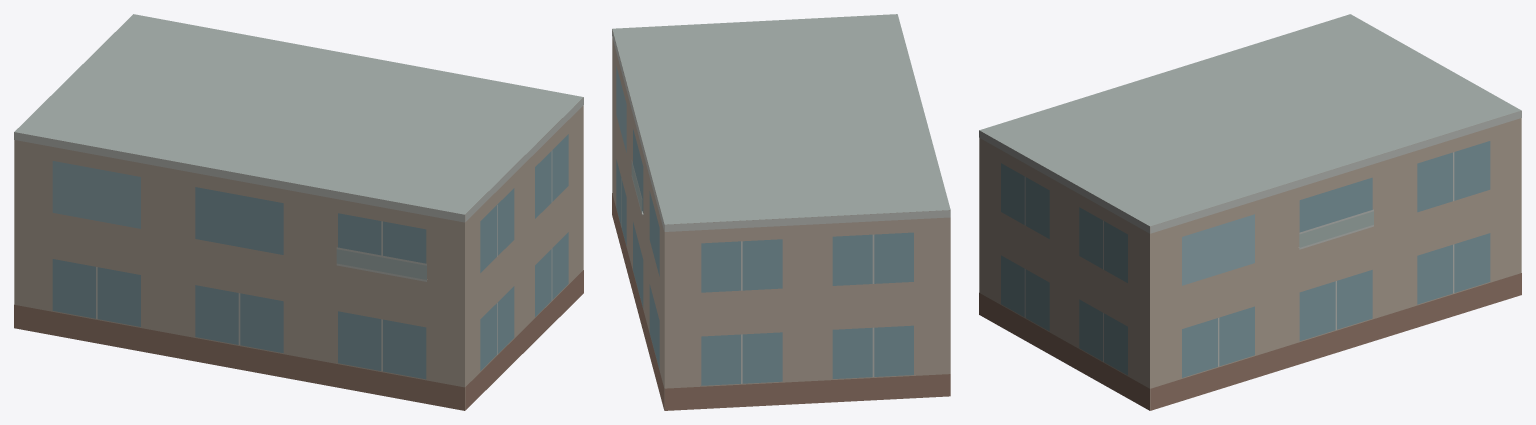
File: survey-upis-32961567.glb
The picture shows the model from 3 angles, left to right: view 1: azimuth 30°, elevation 25°; view 2: azimuth 150°, elevation 25°; view 3: azimuth 270°, elevation 25°; orthographic projection. The views are drawn at different scales.
Parts seen in each view (by area): view 1: survey-upis-32961567.tmp; view 2: survey-upis-32961567.tmp; view 3: survey-upis-32961567.tmp.
Part boxes in pixels (left/top/right/bottom): survey-upis-32961567.tmp: left=14, top=14, right=583, bottom=410; survey-upis-32961567.tmp: left=612, top=14, right=950, bottom=410; survey-upis-32961567.tmp: left=979, top=14, right=1521, bottom=410.
Bounding box in the file's own units: 15.08 × 6.1 × 16.28.
